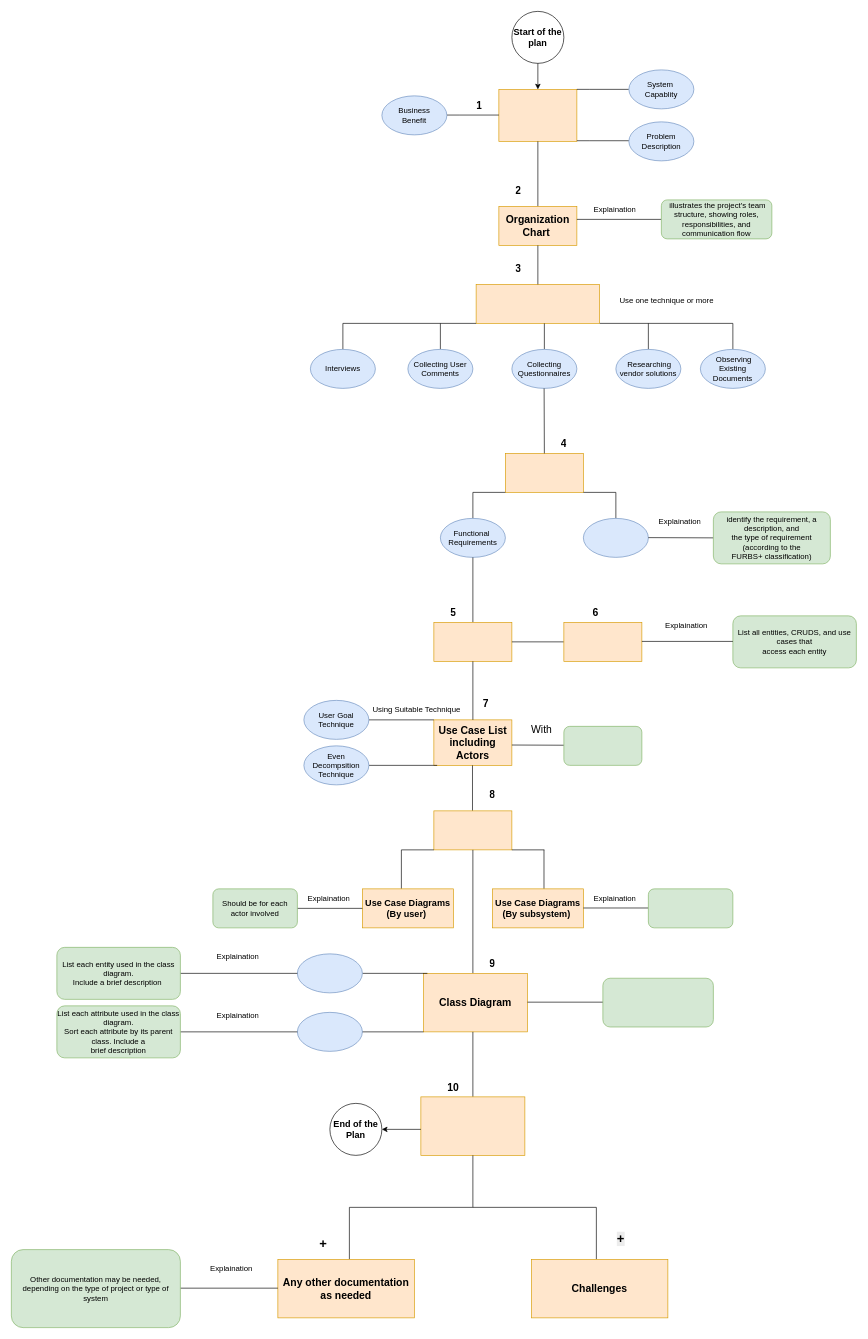
The diagram is 868 pixels wide and 1339 high, and some of its shapes have lost their labels. Here are the shapes that lost their labels. From the top down, the centre of each, then its label:
At [537,115]: "S.V.D".
At [537,303]: "Information Gathering Technique".
At [544,472]: "List of Requirements".
At [615,537]: "Non-Functional Requirements".
At [472,641]: "Define Use Cases".
At [602,641]: "CRUD Table".
At [602,745]: "Use Case Brief Description".
At [472,830]: "Use Case Diagrams".
At [690,908]: "Should be for each subsystem".
At [329,973]: "Entity List".
At [657,1002]: "Submit one complete class diagram for the project".
At [329,1031]: "Attribute List".
At [472,1125]: "Class Machine Diagram".
